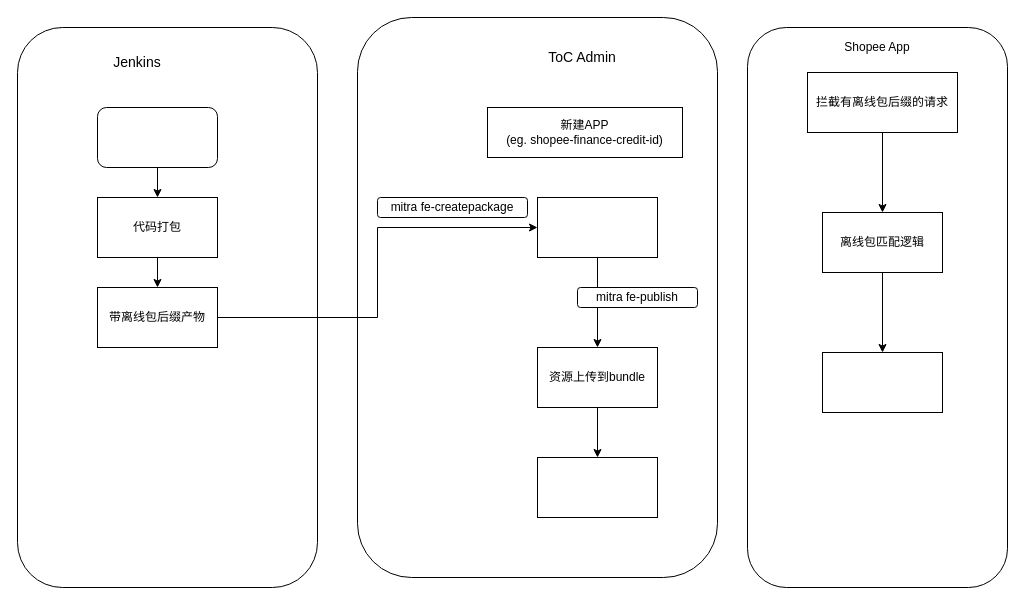
The diagram is 1025 pixels wide and 605 high, and some of its shapes have lost their labels. Here are the shapes that lost their labels. From the top down, the box of each, then its label:
(96, 106, 218, 168): 选择版本和发布类型
(536, 196, 658, 258): 在app下新建一个bundle
(822, 352, 942, 412): 返回线上或离线资源
(536, 456, 658, 518): 点击发布
